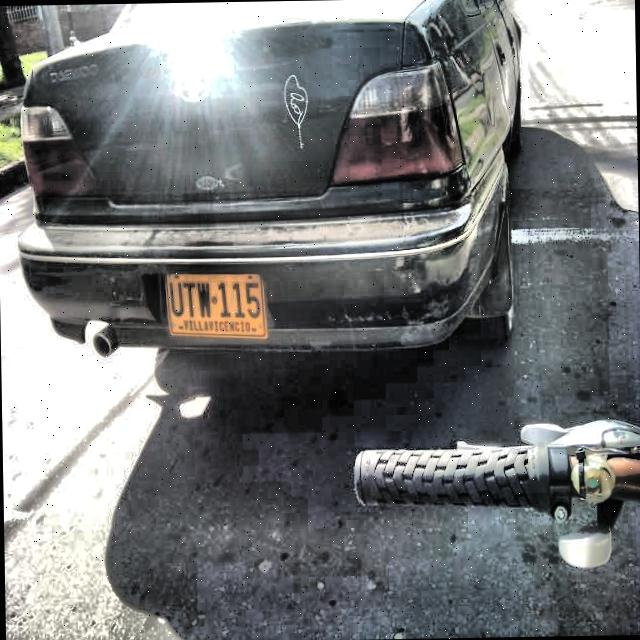plate: (164, 274, 265, 337)
